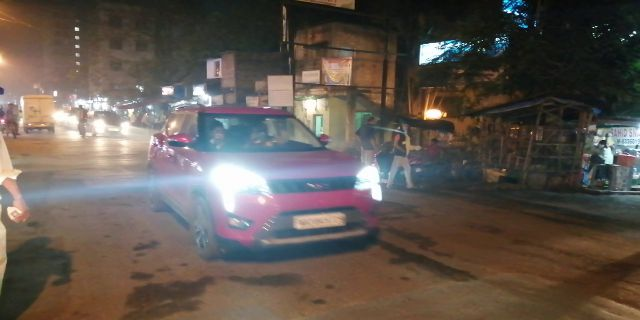Car: (150, 94, 386, 255)
Minitruck: (20, 97, 56, 131)
